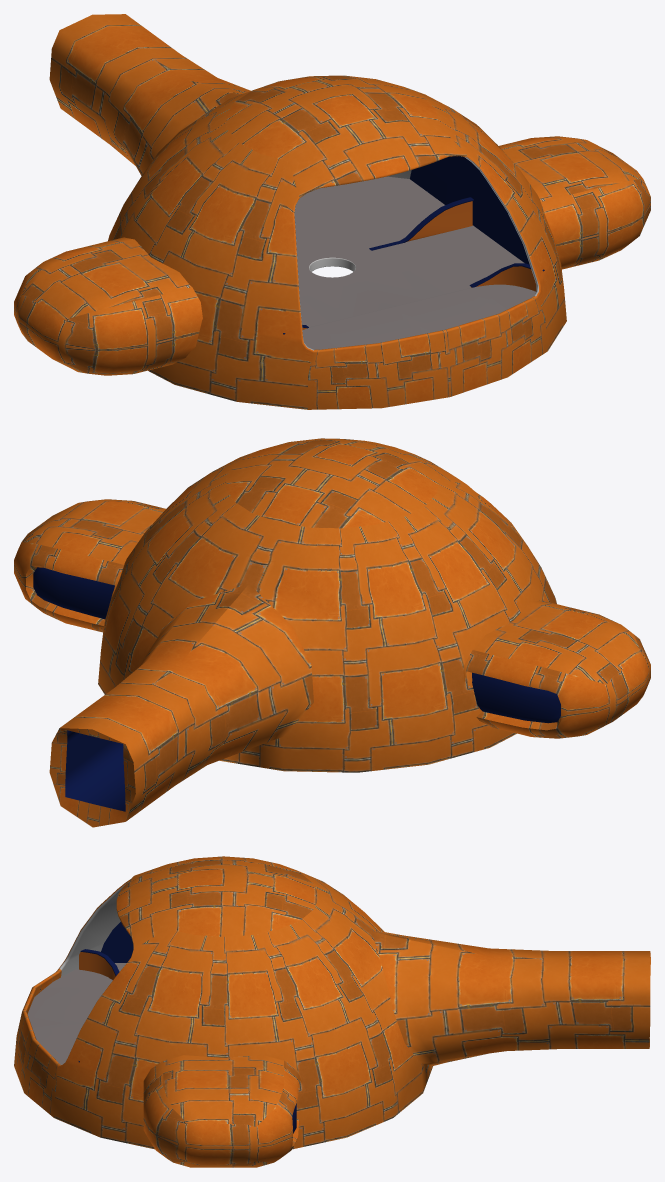
Rendered from Ship_Top.fbx.
The picture shows the model from 3 angles, top to bottom: view 1: azimuth 30°, elevation 25°; view 2: azimuth 150°, elevation 25°; view 3: azimuth 270°, elevation 25°; orthographic projection. The views are drawn at different scales.
Visible parts, largest first — view 1: polySurface66, polySurface63, polySurface74, polySurface65, polySurface71, polySurface72; view 2: polySurface66, polySurface63; view 3: polySurface66, polySurface63, polySurface74, polySurface64, polySurface70.
Boxes of the visible parts, x1,y1,x2,y2 form: polySurface66: [49, 14, 566, 409]; polySurface63: [14, 136, 650, 375]; polySurface74: [294, 176, 535, 349]; polySurface65: [410, 156, 529, 264]; polySurface71: [369, 197, 473, 250]; polySurface72: [469, 263, 544, 291]; polySurface66: [49, 438, 556, 827]; polySurface63: [14, 499, 650, 738]; polySurface66: [14, 856, 650, 1149]; polySurface63: [143, 1055, 302, 1167]; polySurface74: [27, 963, 126, 1064]; polySurface64: [101, 922, 133, 962]; polySurface70: [79, 949, 119, 979].
Size of the model in its own units: 27.68 by 9.4 by 28.56.
5 materials, 4 textured.
